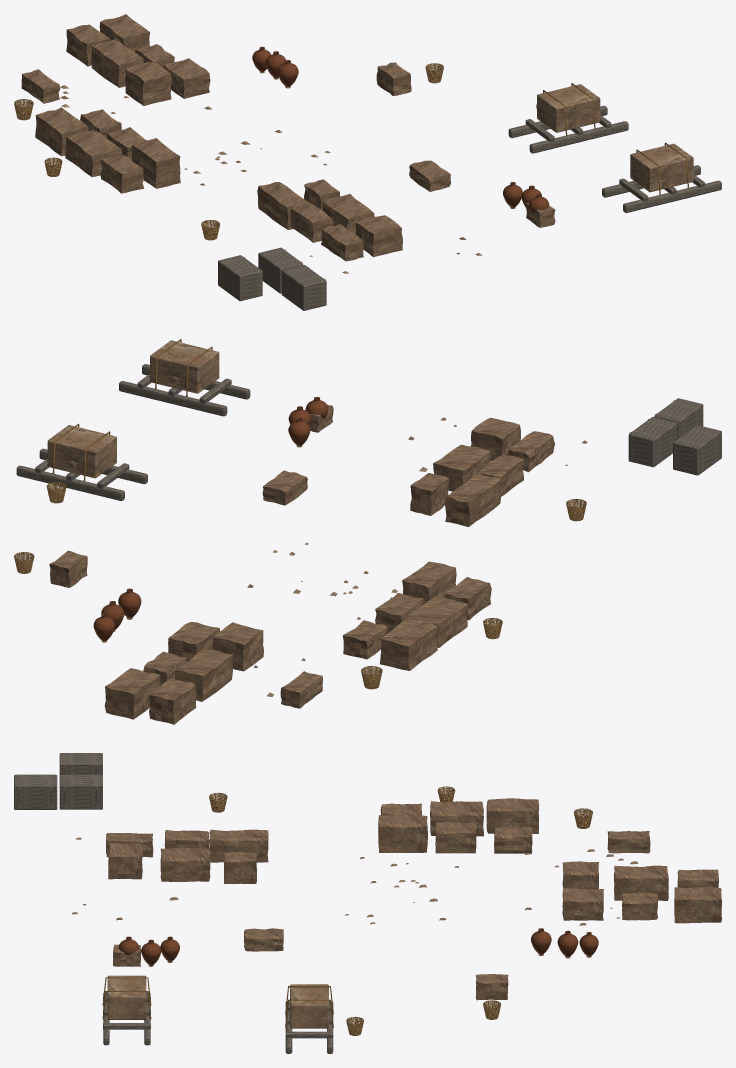
Rendered from workyard.glb.
3 views of the same model, one above another, from view 1: azimuth 30°, elevation 25°; view 2: azimuth 150°, elevation 25°; view 3: azimuth 270°, elevation 25° (orthographic). The views are drawn at different scales.
Visible parts, largest first — view 1: Cargo seated on sledge, Cargo seated on sledge.001, Worked limestone cargo.006, Worked limestone cargo.015, Worked limestone cargo.010, Plain timber storage chest, Plain timber storage chest.002, Worked limestone cargo.016, Worked limestone cargo, Worked limestone cargo.011, Worked limestone cargo.005, Worked limestone cargo.012 (+17 smaller); view 2: Cargo seated on sledge.001, Cargo seated on sledge, Worked limestone cargo.011, Worked limestone cargo.005, Worked limestone cargo.014, Worked limestone cargo.016, Plain timber storage chest.002, Plain timber storage chest.001, Worked limestone cargo.015, Worked limestone cargo.017, Worked limestone cargo.010, Worked limestone cargo.001 (+16 smaller); view 3: Worked limestone cargo.006, Cargo seated on sledge, Worked limestone cargo.014, Cargo seated on sledge.001, Worked limestone cargo.001, Worked limestone cargo.016, Worked limestone cargo.005, Worked limestone cargo.011, Plain timber storage chest, Plain timber storage chest.001, Worked limestone cargo.012, Worked limestone cargo.010 (+13 smaller).
Part boxes in pixels (x1,y1,x2,y2): Cargo seated on sledge: (630,143,693,192); Cargo seated on sledge.001: (537,84,600,132); Worked limestone cargo.006: (131,138,180,188); Worked limestone cargo.015: (125,62,172,105); Worked limestone cargo.010: (65,130,122,177); Plain timber storage chest: (281,265,326,310); Plain timber storage chest.002: (218,255,262,301); Worked limestone cargo.016: (91,39,143,87); Worked limestone cargo: (355,215,402,257); Worked limestone cargo.011: (35,107,88,156); Worked limestone cargo.005: (257,182,309,229); Worked limestone cargo.012: (163,58,210,98); Cargo seated on sledge.001: (47,425,116,478); Cargo seated on sledge: (150,340,219,393); Worked limestone cargo.011: (379,617,437,670); Worked limestone cargo.005: (445,473,501,527); Worked limestone cargo.014: (104,668,160,719); Worked limestone cargo.016: (174,648,233,701); Plain timber storage chest.002: (673,425,721,475); Plain timber storage chest.001: (628,417,677,467); Worked limestone cargo.015: (212,622,263,671); Worked limestone cargo.017: (149,678,196,724); Worked limestone cargo.010: (407,596,468,647); Worked limestone cargo.001: (433,444,490,491); Worked limestone cargo.006: (378,814,427,852); Cargo seated on sledge: (107,975,146,1019); Worked limestone cargo.014: (674,887,721,923); Cargo seated on sledge.001: (290,984,328,1028); Worked limestone cargo.001: (160,848,210,881); Worked limestone cargo.016: (614,865,668,900); Worked limestone cargo.005: (209,829,268,862); Worked limestone cargo.011: (486,798,539,833); Plain timber storage chest: (14,774,57,809); Plain timber storage chest.001: (59,774,102,809); Worked limestone cargo.012: (562,888,603,920); Worked limestone cargo.010: (430,801,483,836).
Size of the model in its own units: 12.49 by 1.6 by 15.51.
Materials: 5 (5 with a texture image).
